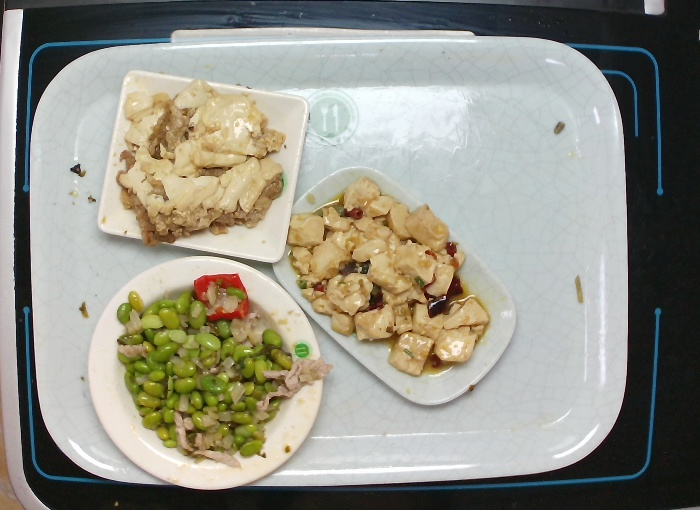WCQzf-Bai_Se_Si_Fang_Die: (91, 59, 315, 268)
WCQzf-Kuan_Bian_Yuan_Die: (83, 253, 334, 493)
WCQzf-Tuo_Yuan_Pan: (274, 162, 522, 414)
